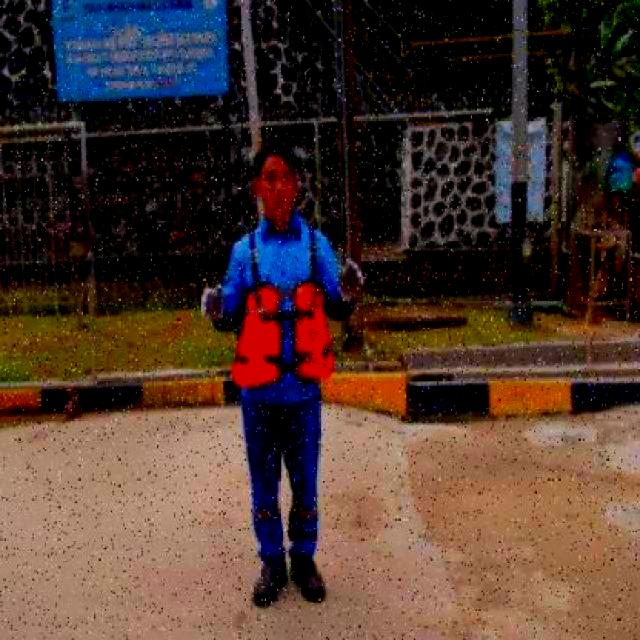Boots: (288, 552, 334, 612), (249, 550, 291, 615)
Gloves: (328, 256, 366, 306), (194, 277, 228, 326)
Mask: (231, 282, 337, 391)
